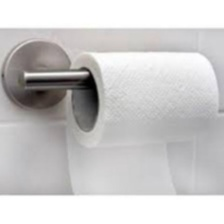tissue: (59, 44, 224, 194)
